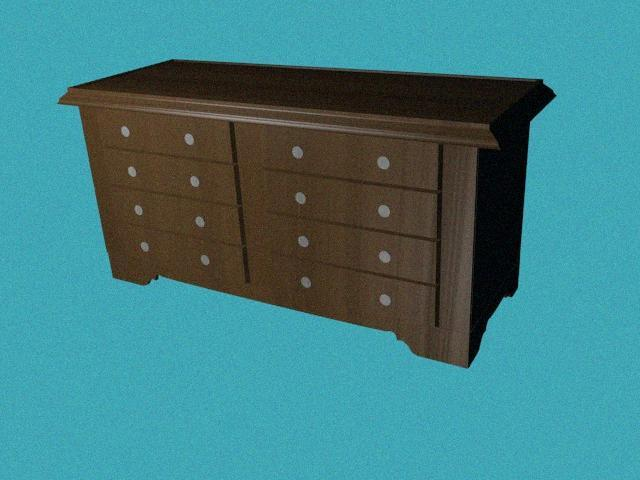cabinet_door: (260, 136, 442, 178), (264, 183, 442, 223), (268, 230, 441, 269), (272, 272, 440, 310), (98, 116, 230, 152), (113, 197, 240, 232), (120, 235, 243, 271), (106, 158, 235, 192)
handle: (372, 151, 392, 174), (285, 143, 305, 162), (373, 200, 391, 221), (373, 247, 391, 268), (374, 292, 392, 311), (294, 273, 311, 291), (293, 233, 309, 251), (293, 191, 309, 208), (180, 131, 196, 148), (194, 253, 210, 270), (133, 239, 150, 255), (192, 216, 208, 232), (127, 204, 144, 219), (116, 123, 130, 138), (123, 166, 137, 180), (187, 175, 200, 190)
